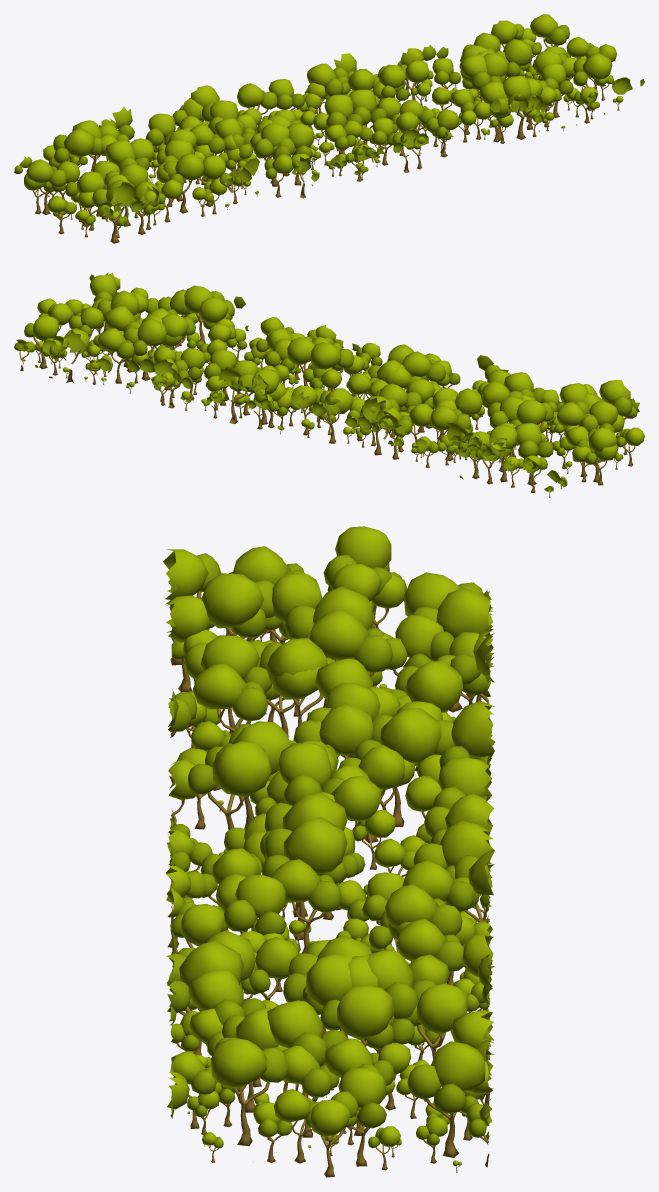
3 views of the same model, one above another, from view 1: azimuth 30°, elevation 25°; view 2: azimuth 150°, elevation 25°; view 3: azimuth 270°, elevation 25° (orthographic). The views are drawn at different scales.
Parts seen in each view (by area): view 1: Tree Part 2; view 2: Tree Part 2; view 3: Tree Part 2.
Part boxes in pixels (<box>): Tree Part 2: <box>14,14,644,243</box>; Tree Part 2: <box>14,272,644,497</box>; Tree Part 2: <box>163,526,495,1177</box>.
Size of the model in its own units: 10617 by 1027 by 2626.
Materials: 1 (1 with a texture image).
